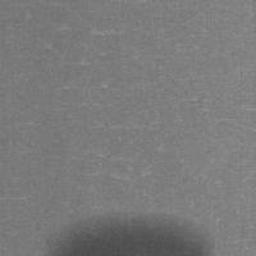Oil spot: (49, 219, 209, 256)
